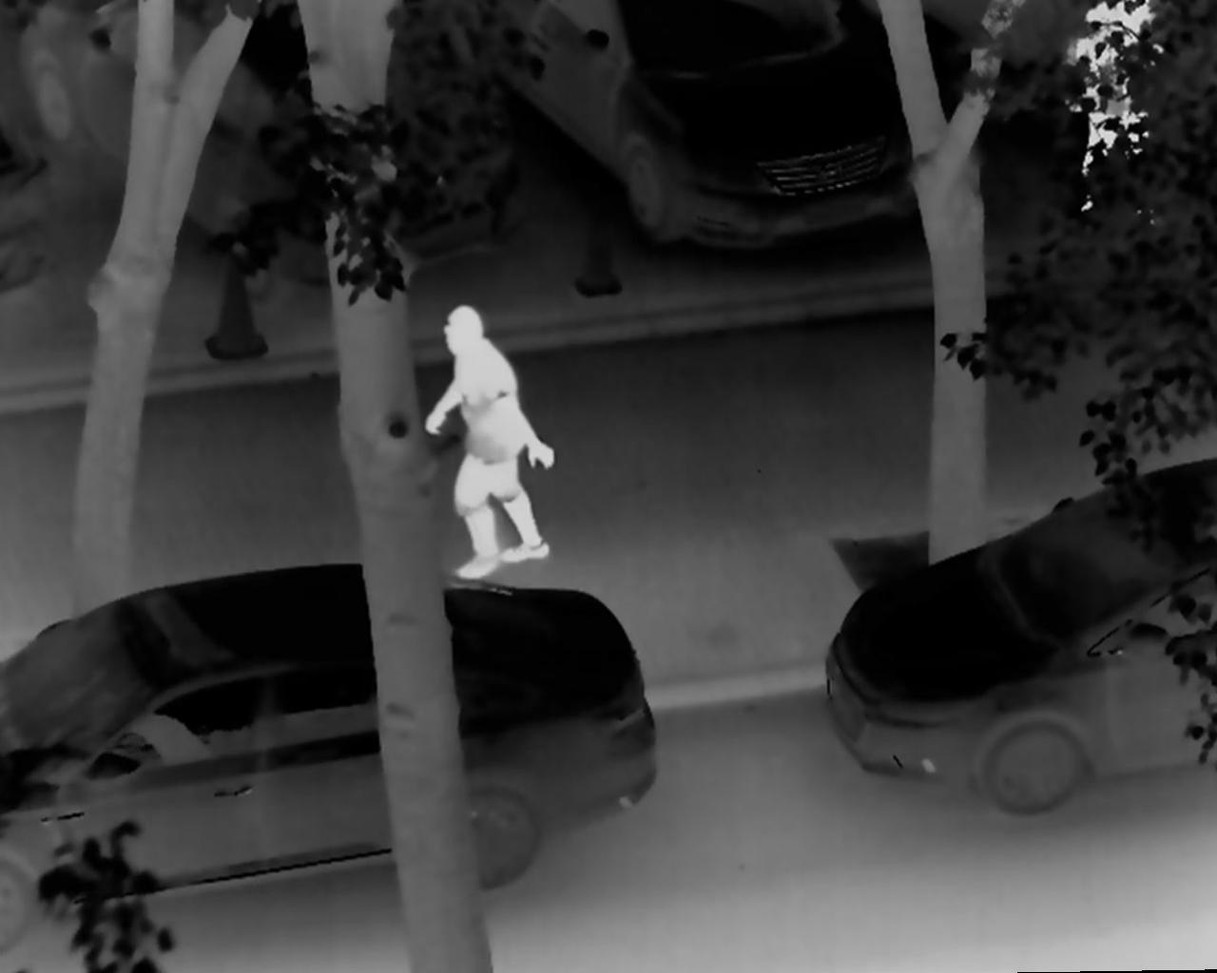person: (423, 302, 560, 585)
